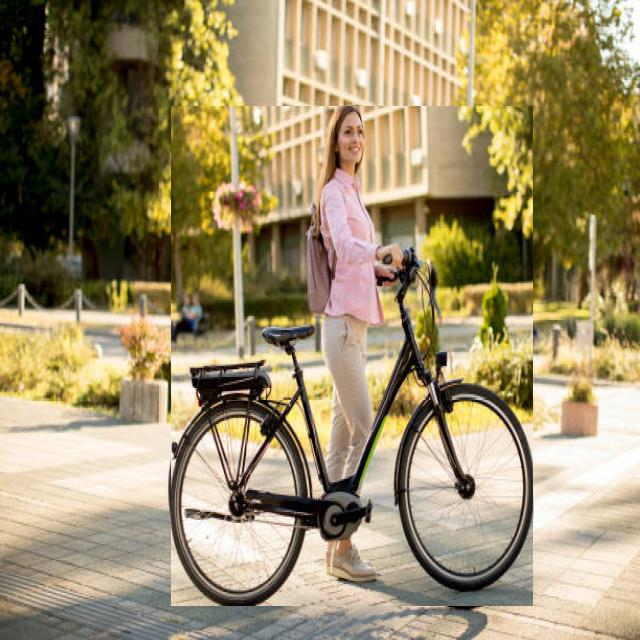bicycle: (171, 107, 532, 606)
